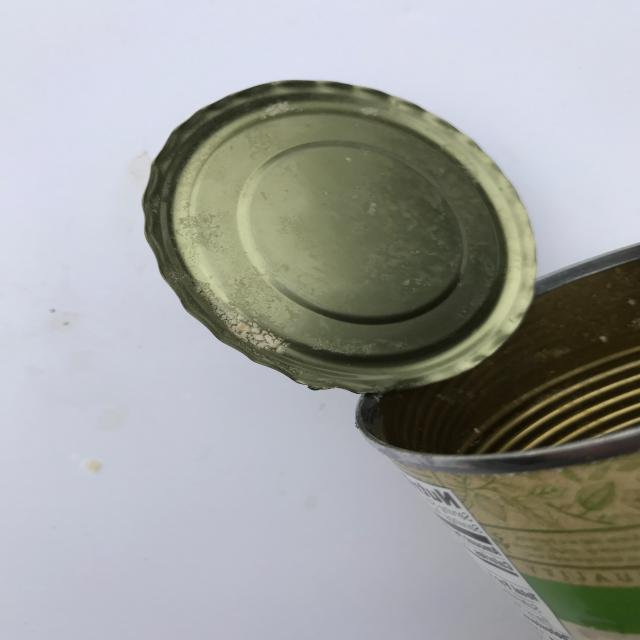metal: (141, 78, 539, 394)
